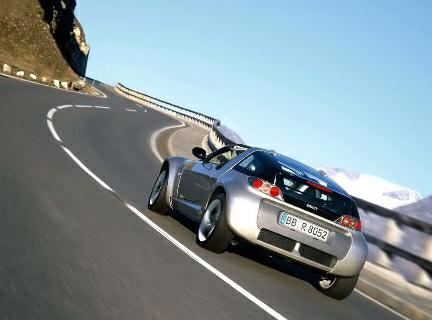smart-roadster: (147, 141, 373, 302)
